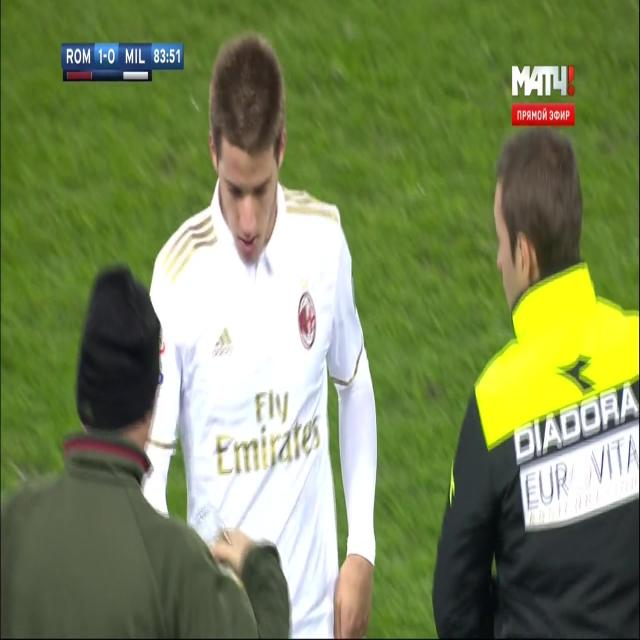Player: (142, 38, 380, 636)
